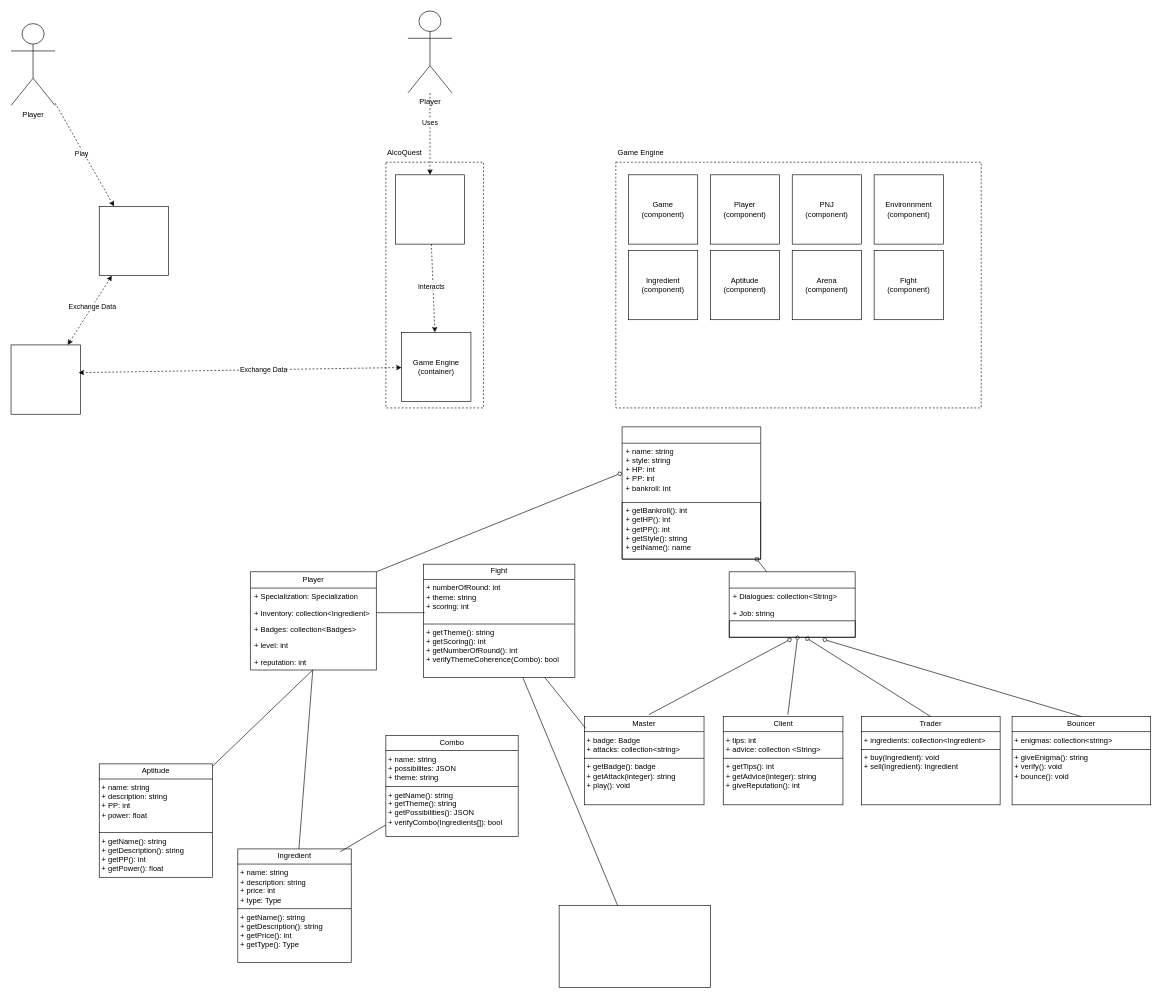
Some shapes in this 1162 by 999 pixel diagram are drawn without their labels. The shapes that lost their labels are listed below. From the top down, each one's box as (x1, y1, x2, y2) in pixels, then its label:
(395, 174, 465, 244): Text Displayer UI (container)
(99, 206, 169, 276): AlcoQuest (game)
(10, 344, 80, 414): JSON Manager
(621, 426, 761, 559): Character
(729, 571, 855, 637): PNJ
(729, 620, 855, 637): + talk(): string
(558, 905, 710, 988): Arena + name: string + theme: string + getTheme(): string + getName(): string
